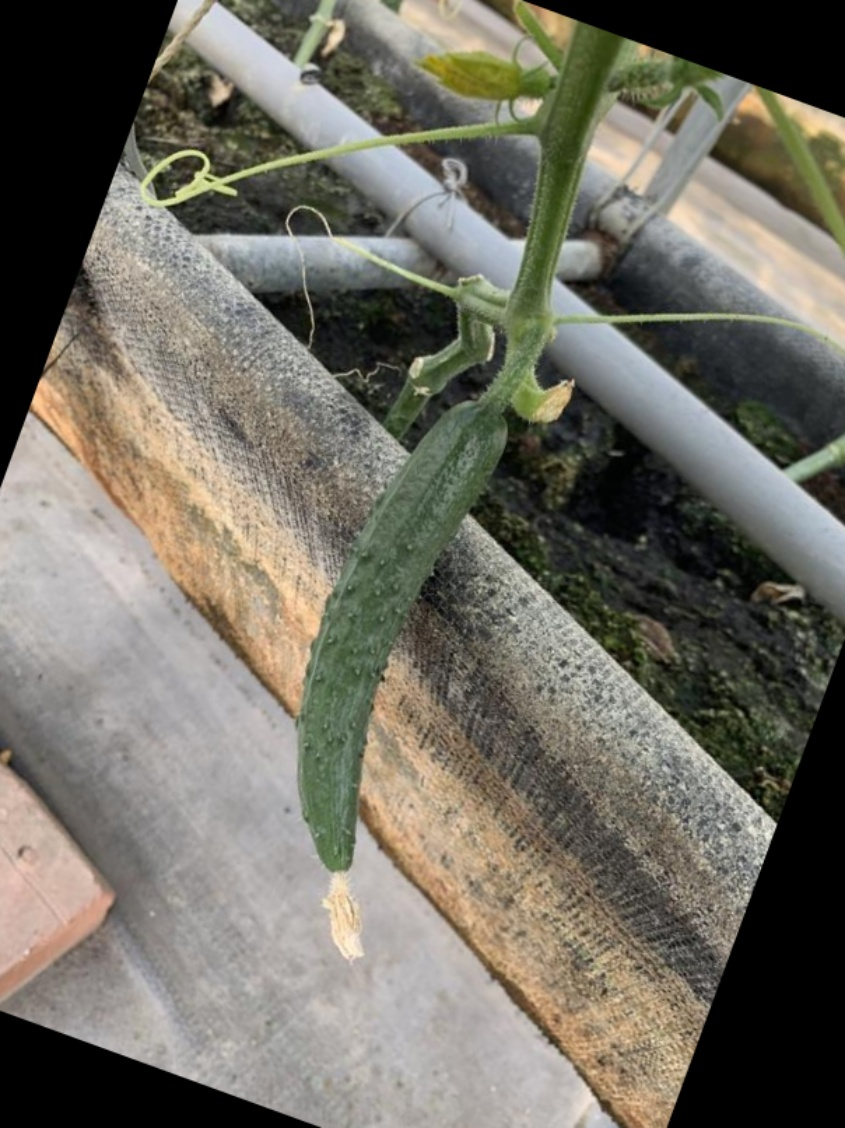mature: (279, 399, 507, 896)
